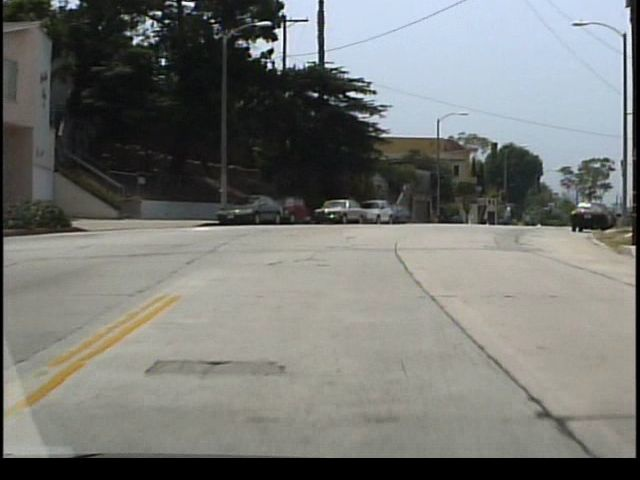person: (507, 205, 515, 226)
